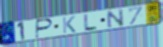1: (16, 20, 26, 41)
7: (128, 5, 144, 26)
K: (62, 15, 77, 34)
L: (83, 13, 99, 31)
N: (106, 8, 126, 30)
P: (35, 18, 55, 39)
